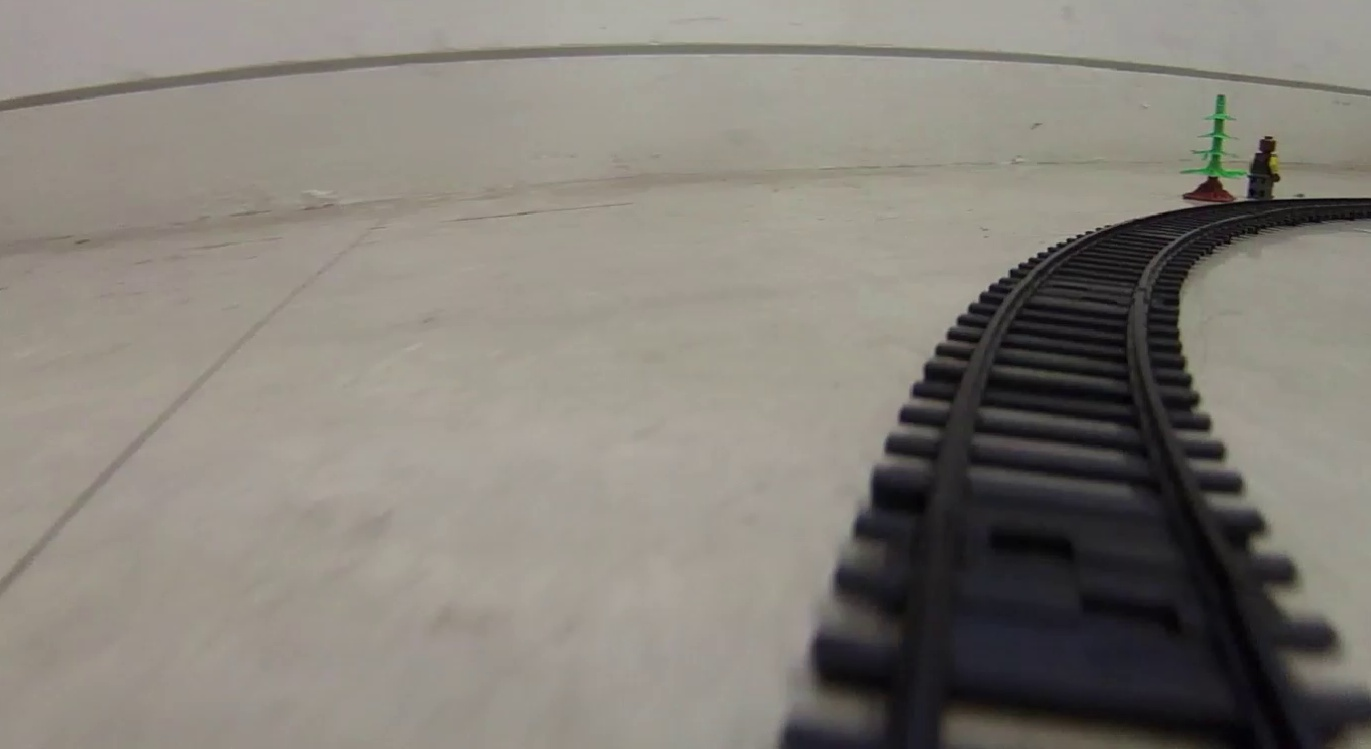people: (1247, 135, 1279, 200)
tree: (1181, 94, 1244, 204)
